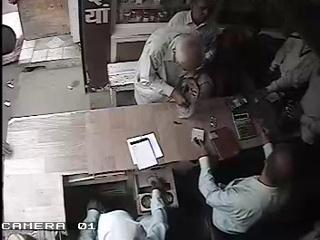Normal: (193, 129, 297, 240), (133, 28, 213, 107)
